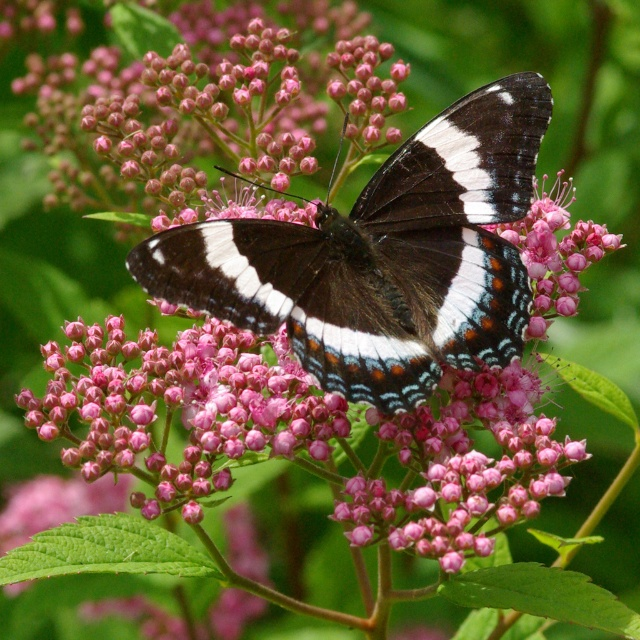Butterfly: (124, 68, 555, 418)
